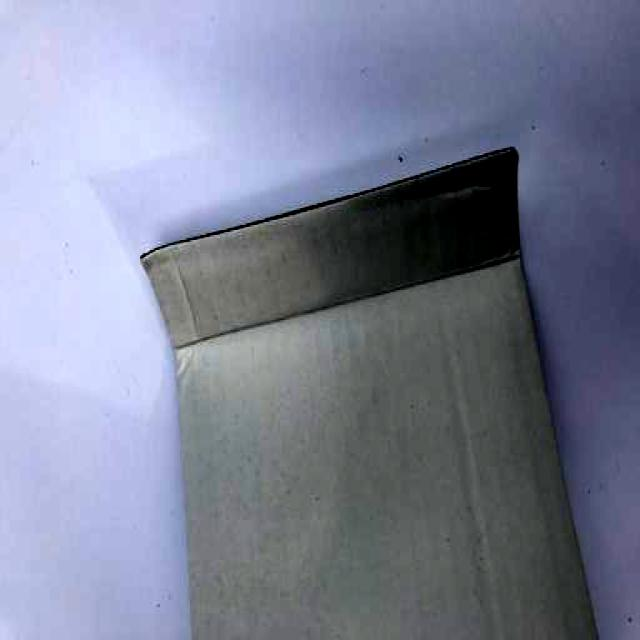Paper: (132, 126, 614, 640)
